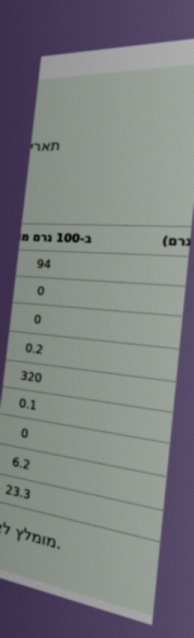carbs: (16, 394, 39, 415)
energy: (34, 255, 53, 273)
fat: (35, 282, 47, 300)
protein: (2, 480, 33, 505)
